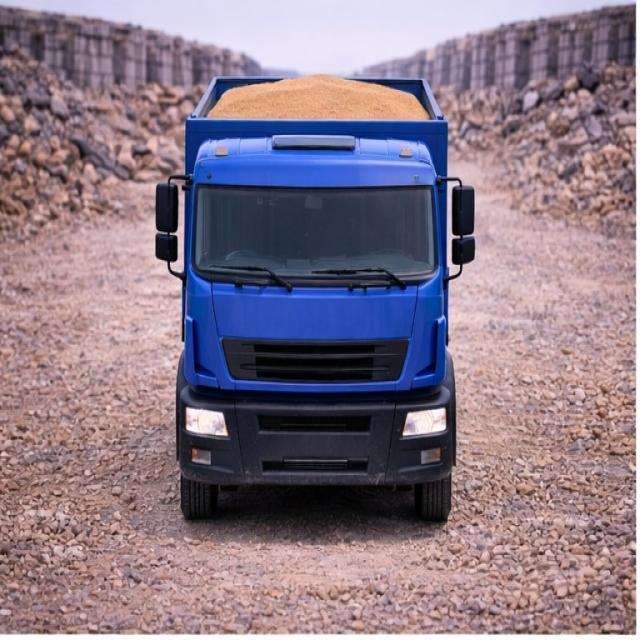Box: (184, 73, 452, 137)
Truck: (116, 22, 488, 548)
